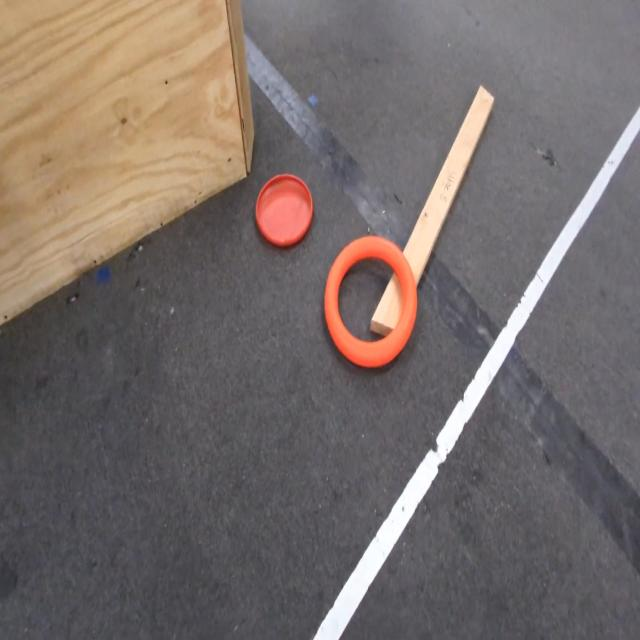note: (323, 238, 416, 366)
